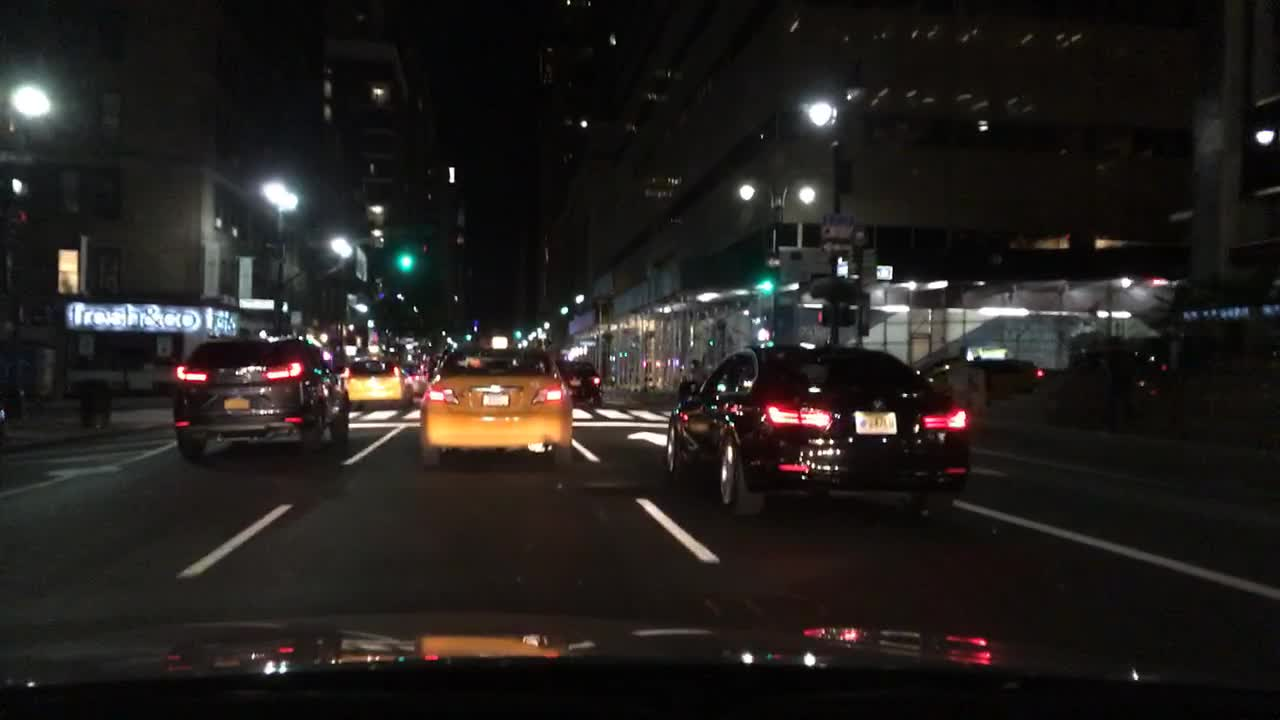car: (666, 341, 973, 522), (169, 331, 356, 456), (416, 336, 576, 465), (923, 359, 1040, 406), (344, 354, 415, 411), (556, 356, 601, 406)
person: (1096, 330, 1136, 432)
traffic light: (816, 308, 850, 325), (413, 243, 426, 274), (11, 207, 31, 225), (399, 247, 411, 272), (761, 272, 772, 296)
traffic sign: (821, 214, 855, 239), (860, 249, 878, 291), (819, 242, 854, 253), (766, 254, 781, 267)
